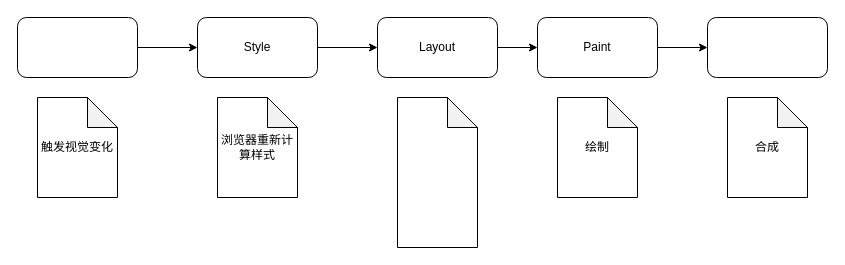
This 845x265 diagram has some shape labels left out. The centre of each missing label's shape, as x and y in pixels:
Composite: the point at 767,47
JavaScript: the point at 77,47
布局，依据元素的大小、位置等信息，依据几何关系布局: the point at 437,172
